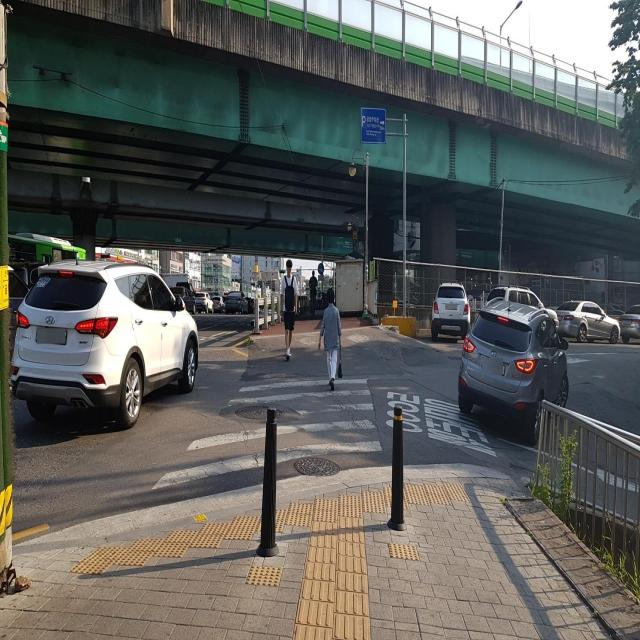횡단보도: (150, 378, 384, 492)
